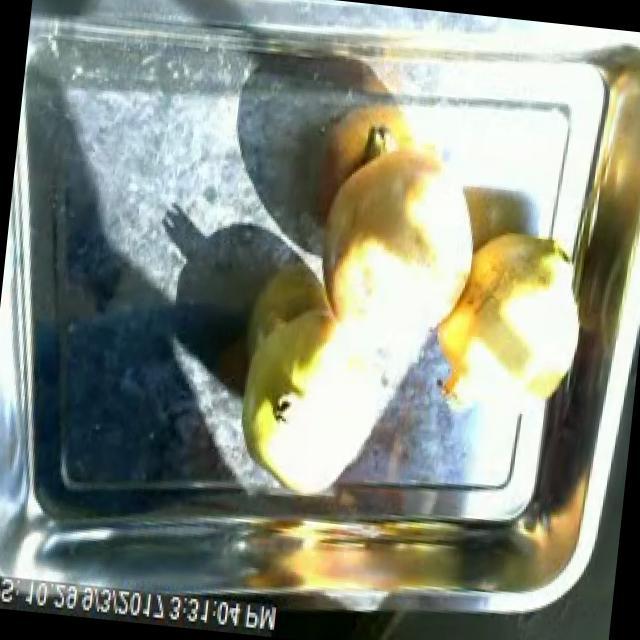fruit: (298, 108, 501, 356), (413, 202, 596, 424), (219, 294, 397, 513)
